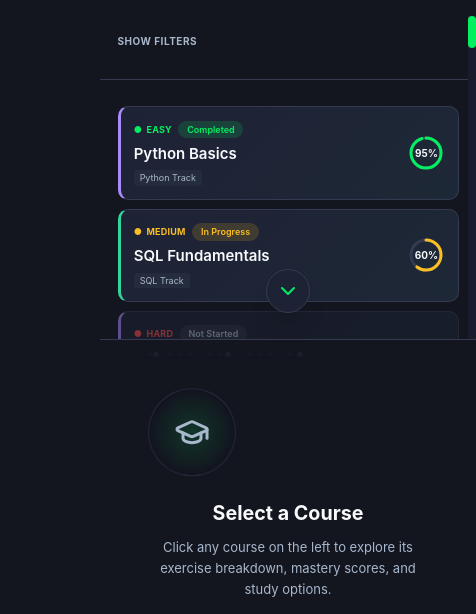
Test: MyCourses (Tracks page) › toggles filter visibility
Check: the heading "Python Basics" is shown, box [134,144,237,163]
Check: the text "Hide Filters" is not shown
Click the button "Show Filters" at (157, 41), box [118,34,197,48]
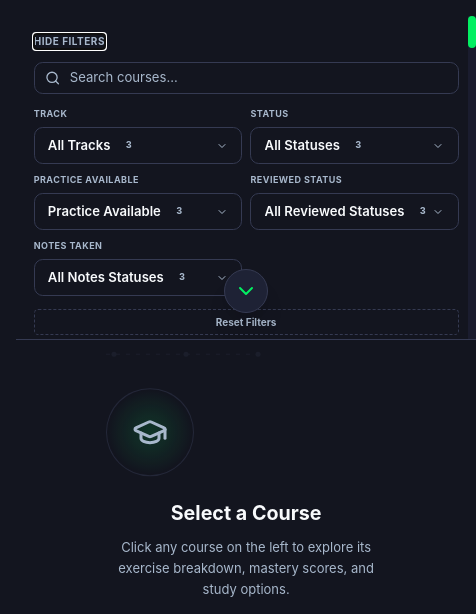
Check: the button "Show Filters" is gone
Check: the button "Hide Filters" is shown, box [34,34,105,48]
